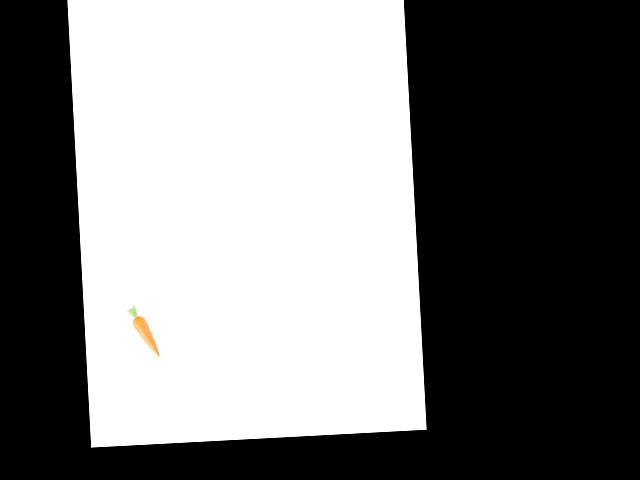carrot: (132, 309, 162, 359)
